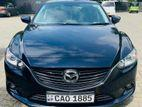car: (3, 0, 137, 107)
